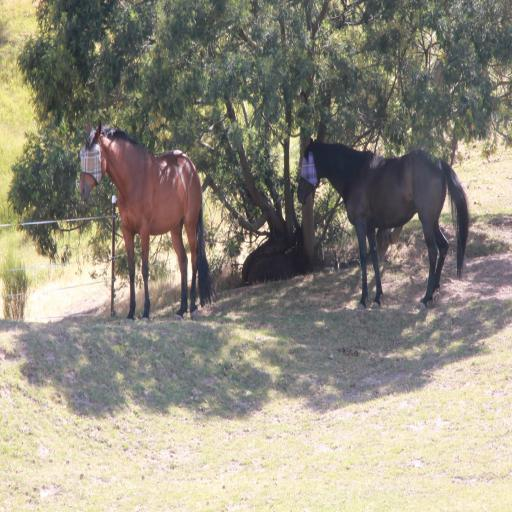horse: (296, 137, 470, 313), (78, 120, 221, 320)
